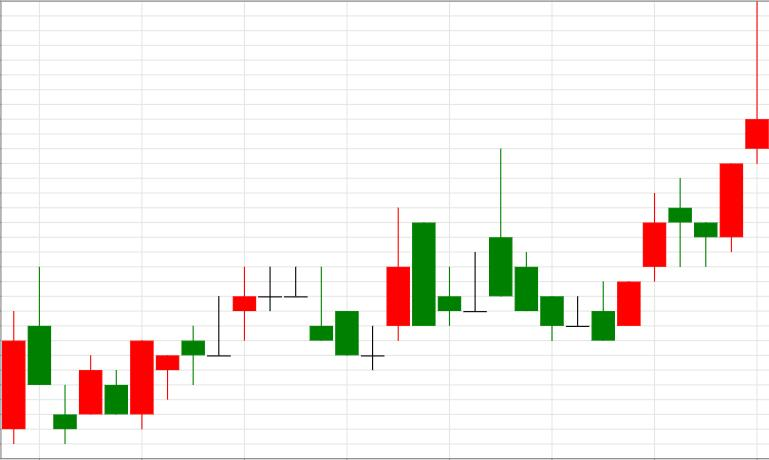morning_star_rise: (258, 208, 410, 370)
shooting_star_fall: (618, 2, 769, 326)
